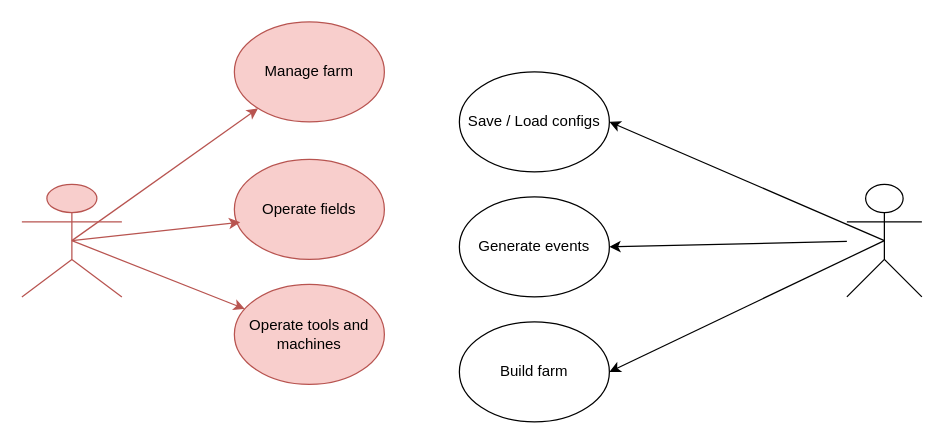
Some shapes in this 944 by 444 pixel diagram are drawn without their labels. Here are the shapes that lost their labels. From the top down, the centre of each, then its label:
At point 71,240: "Farmer".
At point 884,240: "System".
